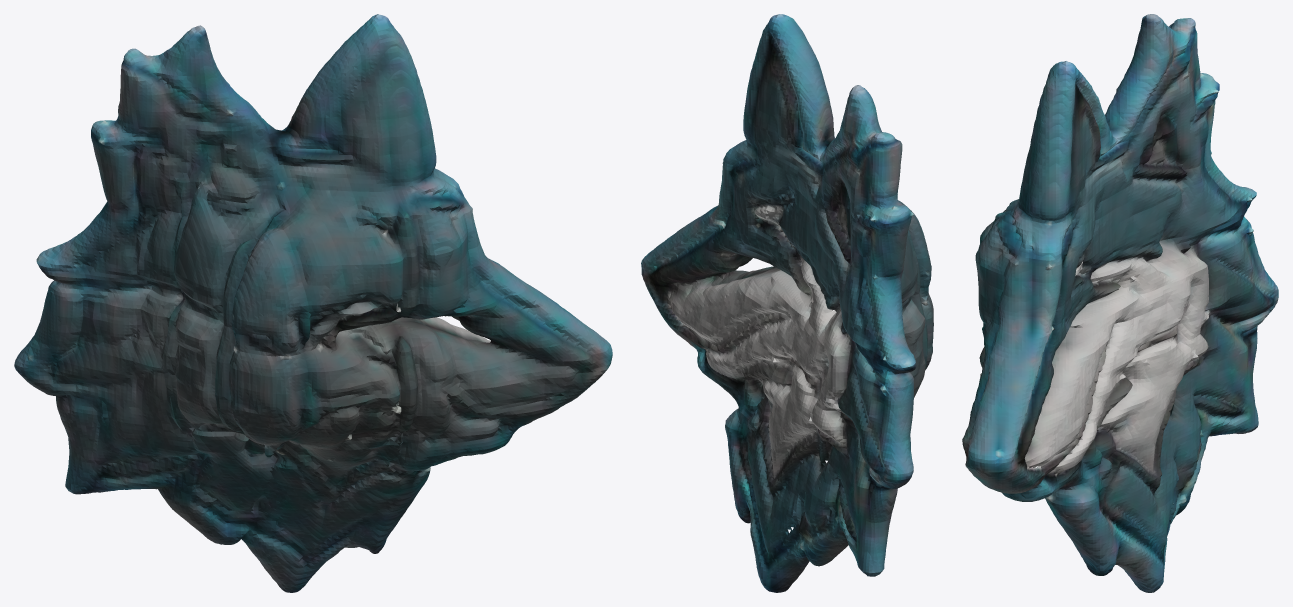
File: lobo.glb
3 views of the same model, side by side, from view 1: azimuth 30°, elevation 25°; view 2: azimuth 150°, elevation 25°; view 3: azimuth 270°, elevation 25° (orthographic). The views are drawn at different scales.
Parts seen in each view (by area): view 1: world; view 2: world; view 3: world.
Part boxes in pixels (box(x1,y1,x2,y2)): world: box(14, 14, 612, 592); world: box(641, 14, 933, 592); world: box(962, 14, 1278, 592).
Size of the model in its own units: 0.7575 by 0.9772 by 0.5108.
